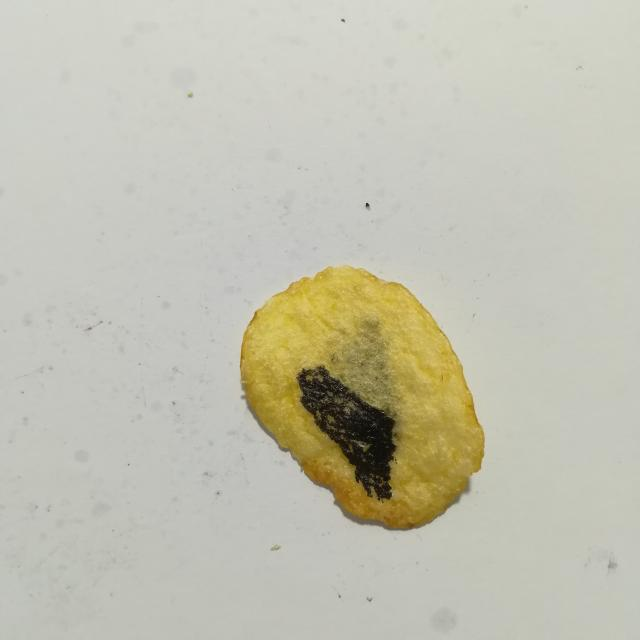chip: (240, 266, 484, 528)
damaged: (297, 366, 395, 499)
semi-damaged: (326, 314, 399, 419)
